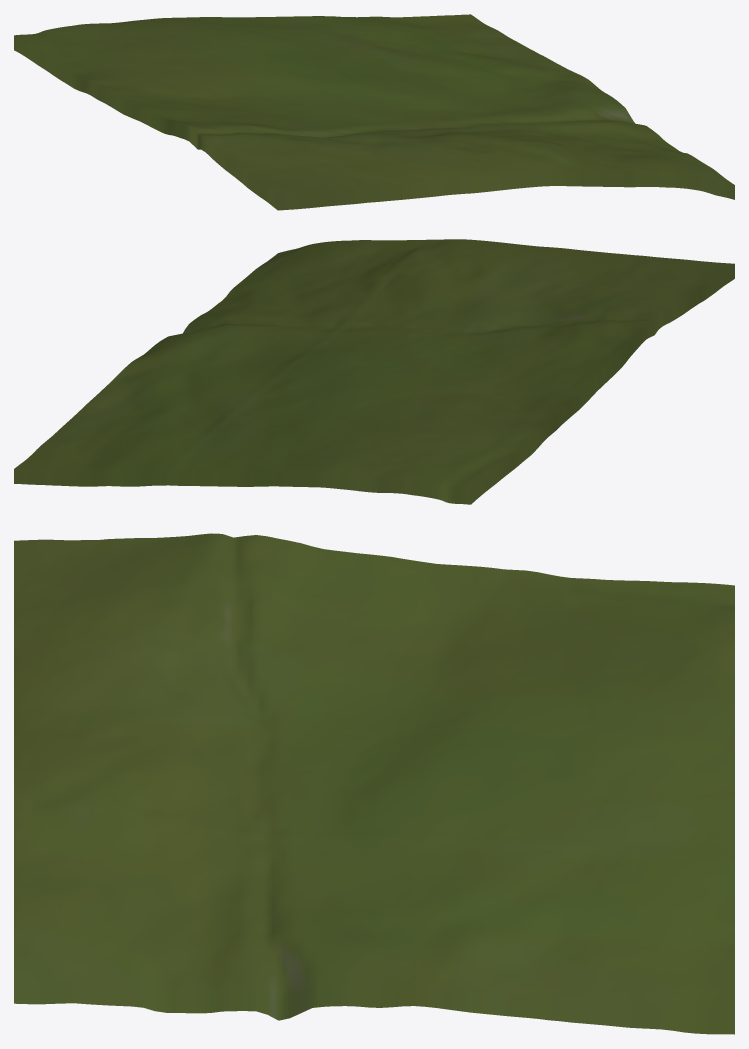
File: terrain_7_-14.glb
The picture shows the model from 3 angles, top to bottom: view 1: azimuth 30°, elevation 25°; view 2: azimuth 150°, elevation 25°; view 3: azimuth 270°, elevation 25°; orthographic projection. The views are drawn at different scales.
Parts seen in each view (by area): view 1: terrain_7_-14; view 2: terrain_7_-14; view 3: terrain_7_-14.
Part boxes in pixels (x1,y1,x2,y2): terrain_7_-14: (14, 14, 734, 210); terrain_7_-14: (14, 239, 734, 504); terrain_7_-14: (14, 533, 734, 1034).
Bounding box in the file's own units: 256 × 76.91 × 256.
